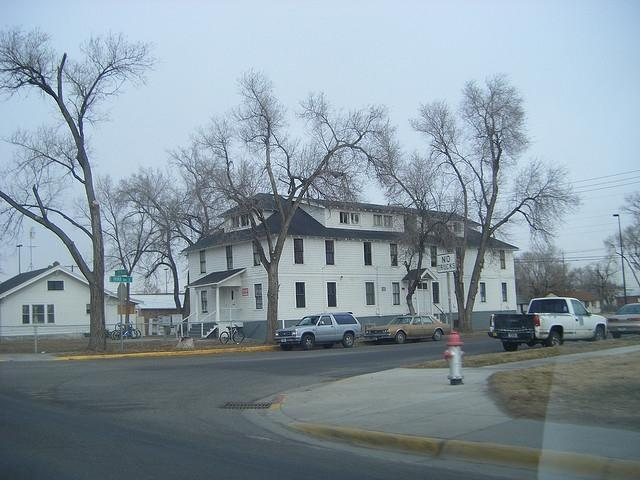bicycle: (114, 320, 138, 341), (220, 324, 244, 344), (110, 330, 118, 338)
car: (276, 312, 364, 349), (365, 312, 452, 344), (608, 303, 640, 339)
truck: (486, 296, 608, 351)
